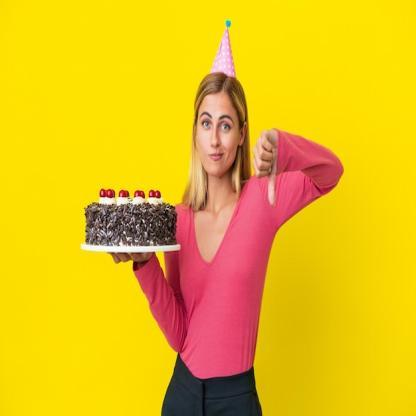thumb_down: (250, 122, 285, 208)
